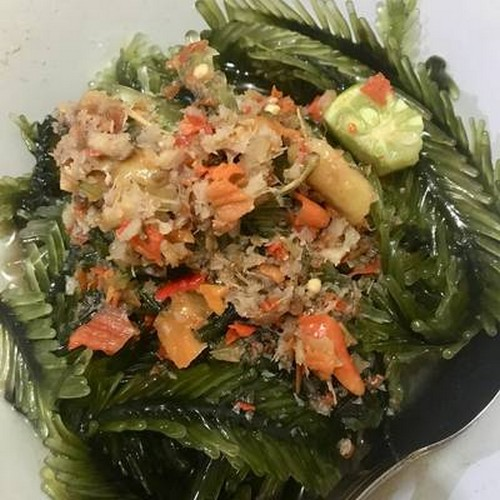bulung buni: (23, 14, 436, 459)
